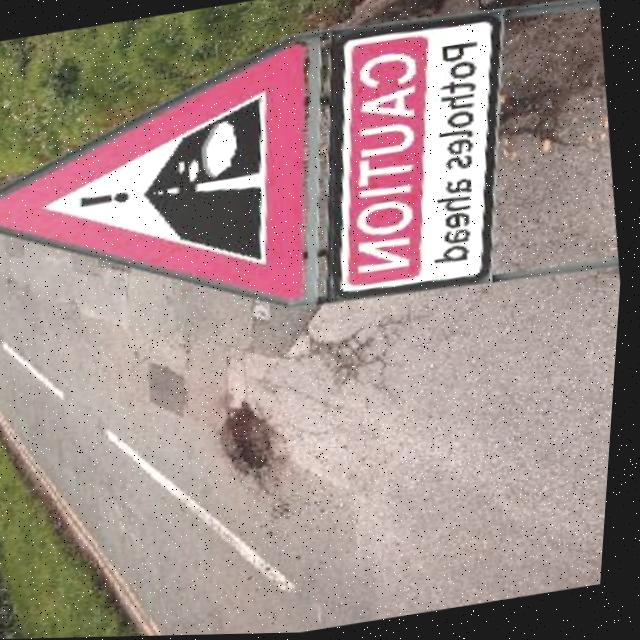Pothole: (214, 396, 298, 493)
